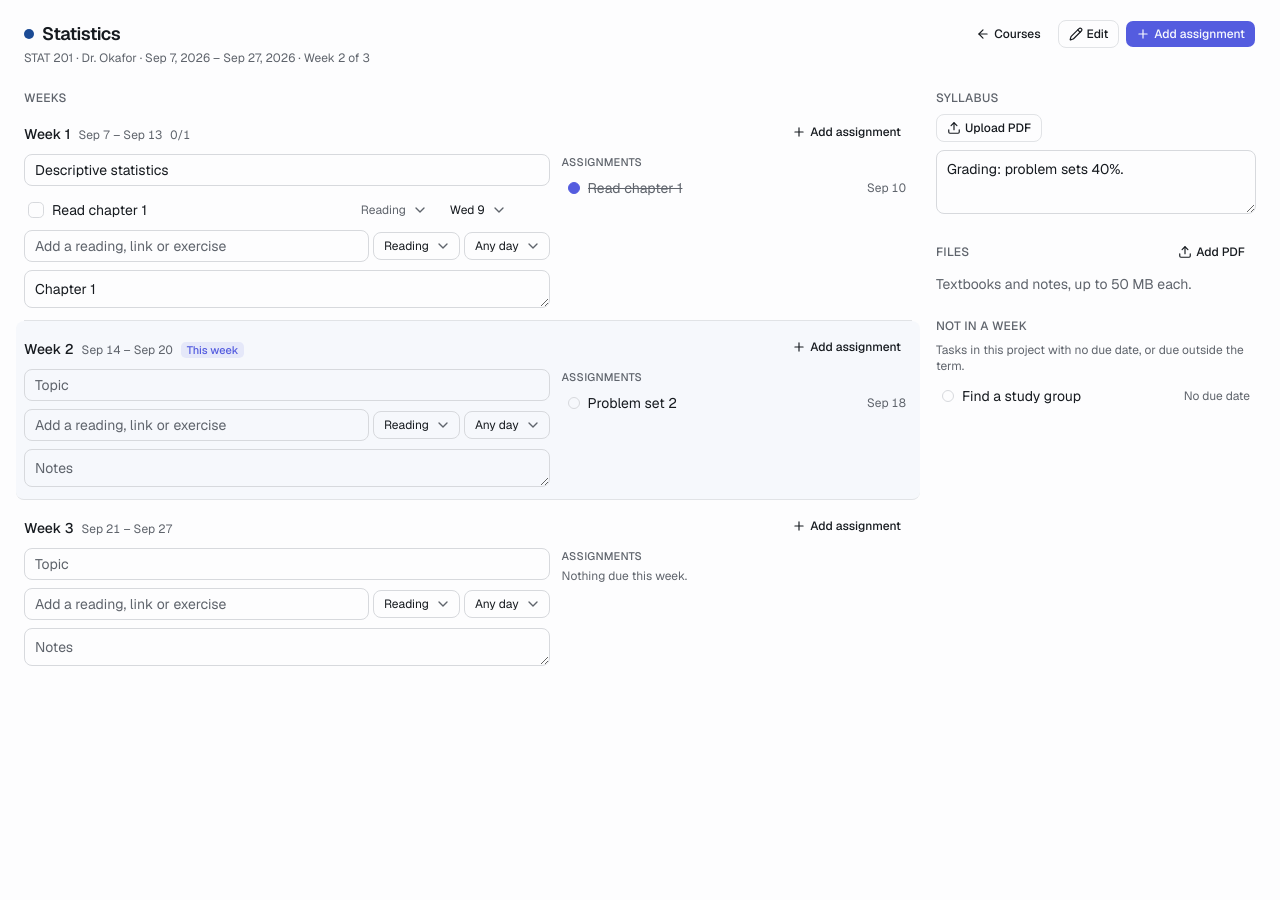
Test case: the week checklist › ticks an entry through the done action and strikes it through
Click the checkbox named "Read chapter 1".
click(36, 210)  # box [28,202,44,218]
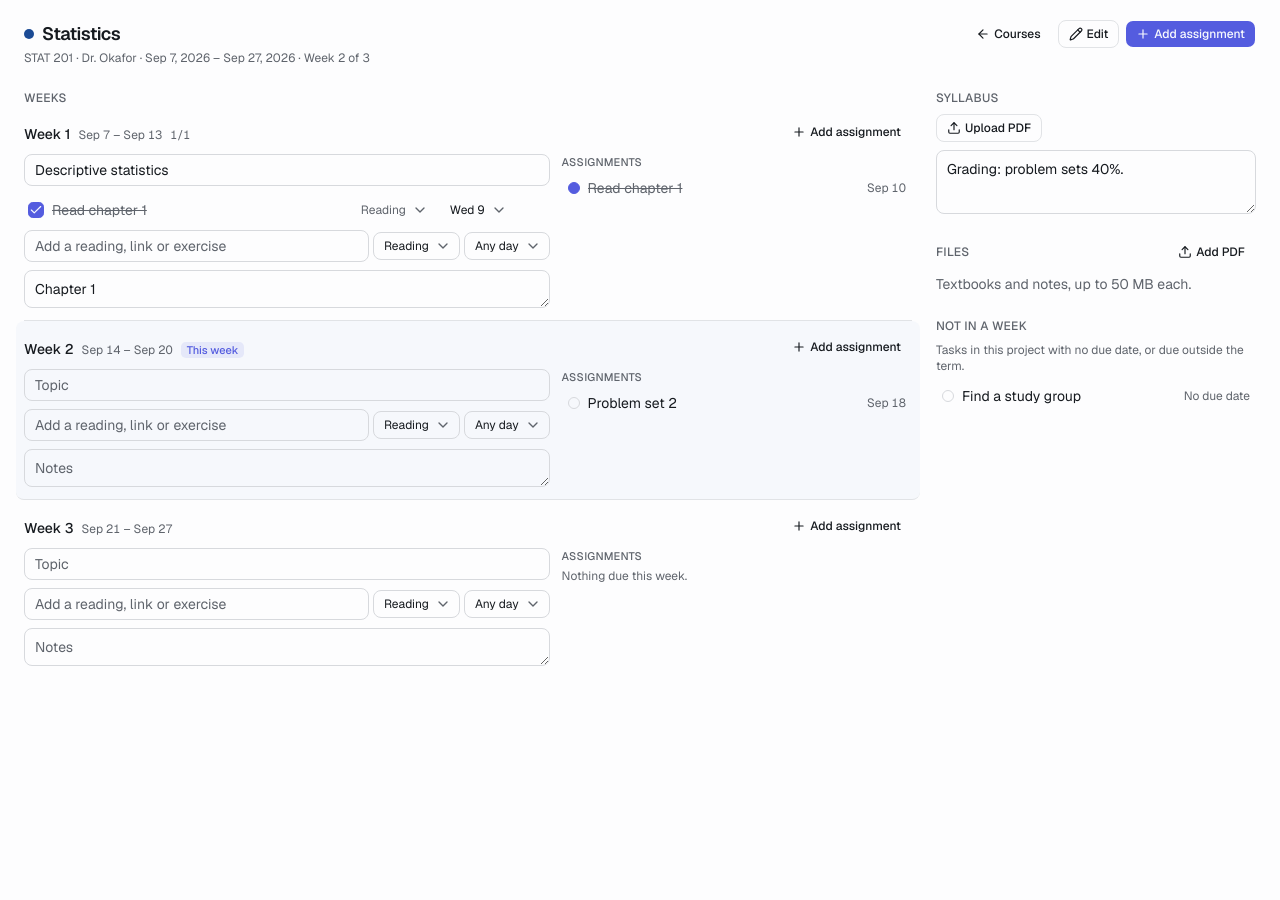
Result: the checkbox named "Read chapter 1, done" is shown at [28,202,44,218]
